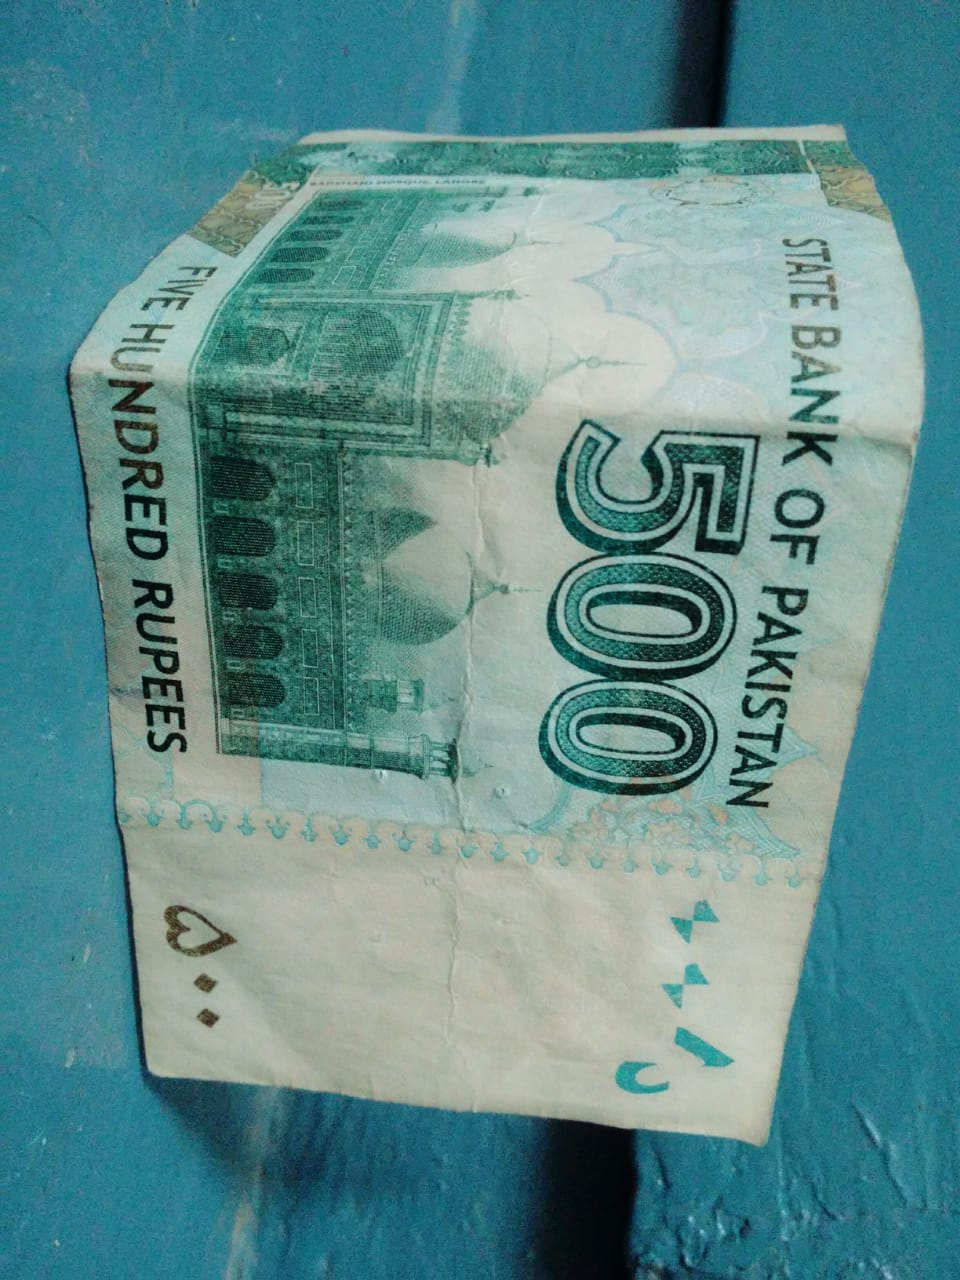500 rupee: (33, 79, 940, 1196)
